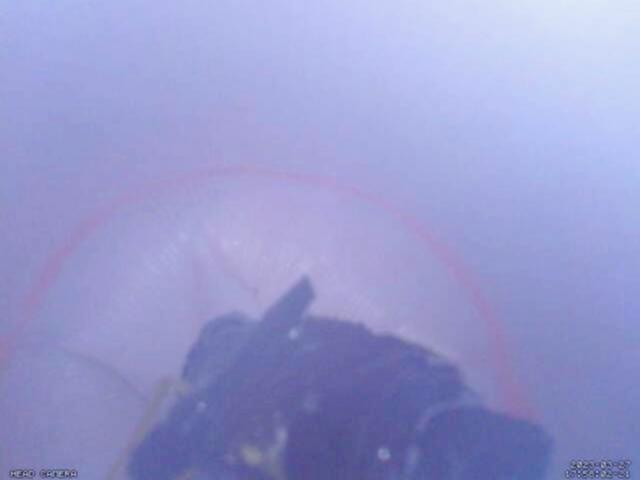head: (0, 165, 542, 424)
